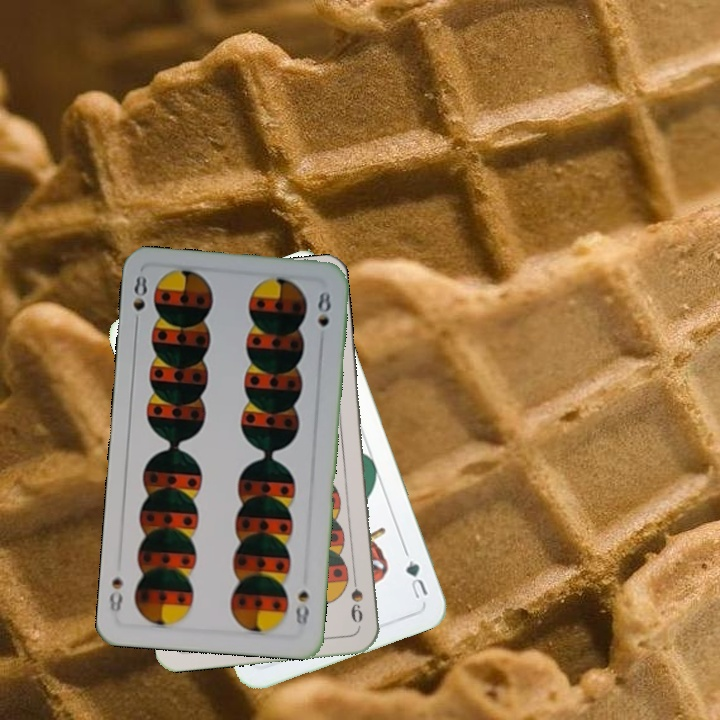GU: (401, 556, 431, 602)
S8: (129, 272, 150, 330), (291, 586, 312, 630)
S9: (346, 568, 366, 625)
